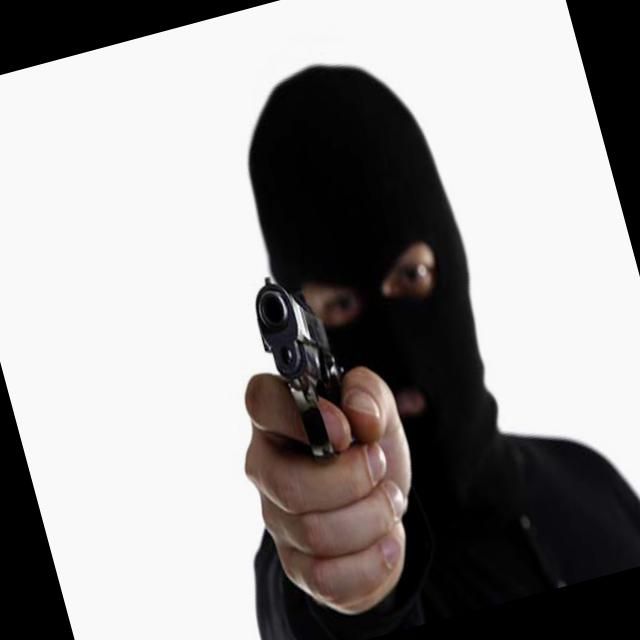handgun: (242, 263, 366, 466)
